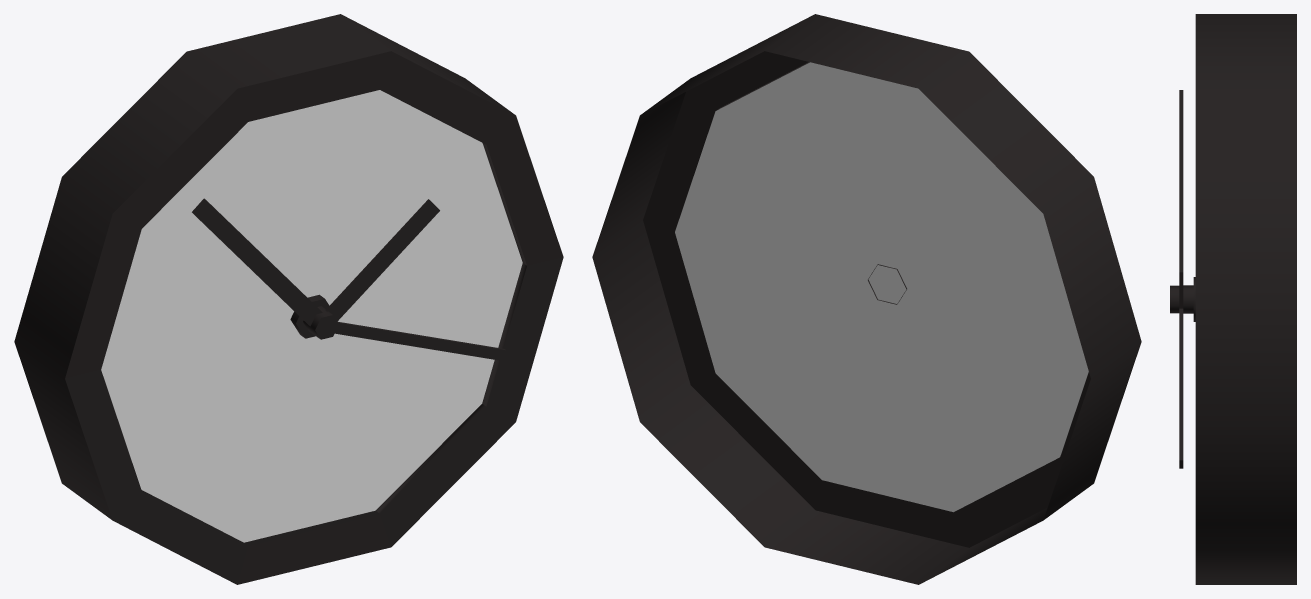
Rendered from clock.FBX.
3 renders of one model, left to right at view 1: azimuth 30°, elevation 25°; view 2: azimuth 150°, elevation 25°; view 3: azimuth 270°, elevation 25°, orthographic.
Parts seen in each view (by area): view 1: clock; view 2: clock; view 3: clock.
Boxes of the visible parts, bbox=[...] form: clock: bbox=[14, 14, 563, 584]; clock: bbox=[592, 14, 1141, 584]; clock: bbox=[1170, 14, 1296, 584].
Size of the model in its own units: 30.46 by 28.97 by 6.71.
Materials: 1 (1 with a texture image).
